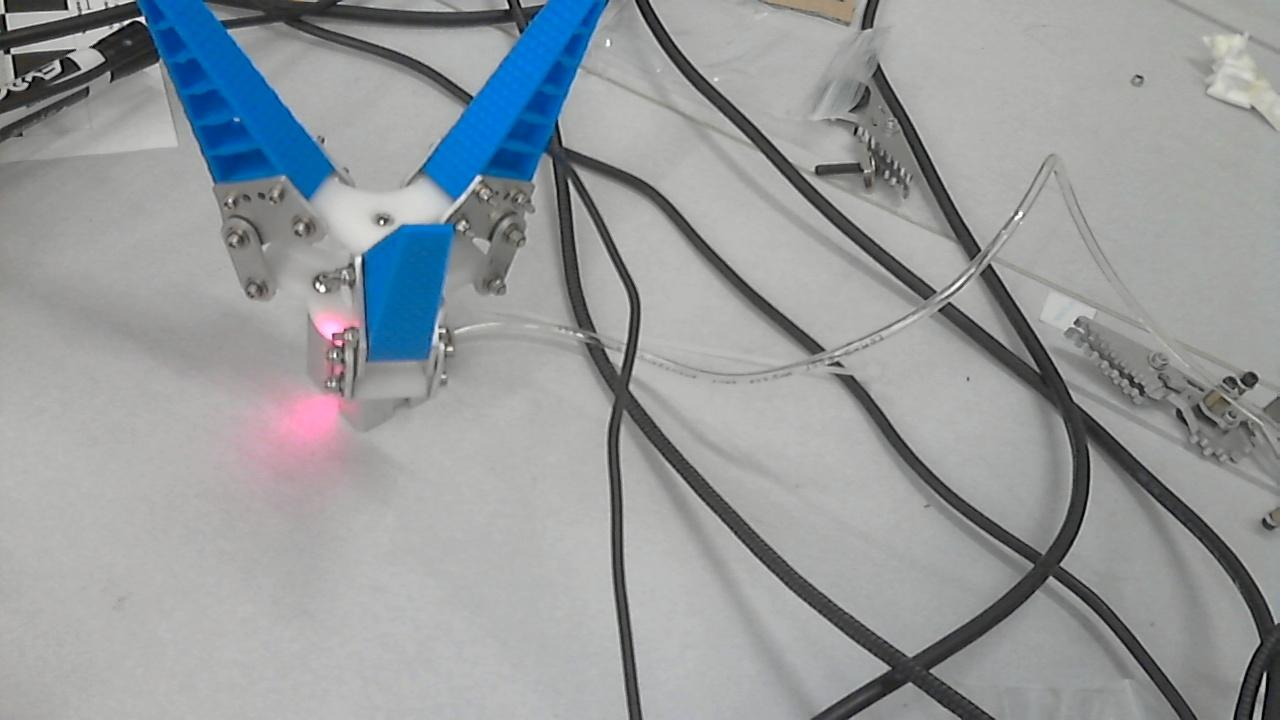Object rubber duck - Material rubber -Color blue - Pdfname BWuUnwTLudUE: (286, 278, 380, 370)
